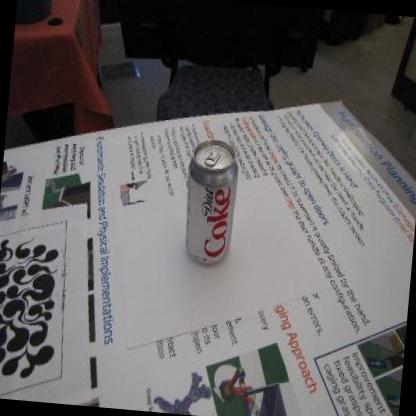alumunium_can: (179, 134, 242, 269)
